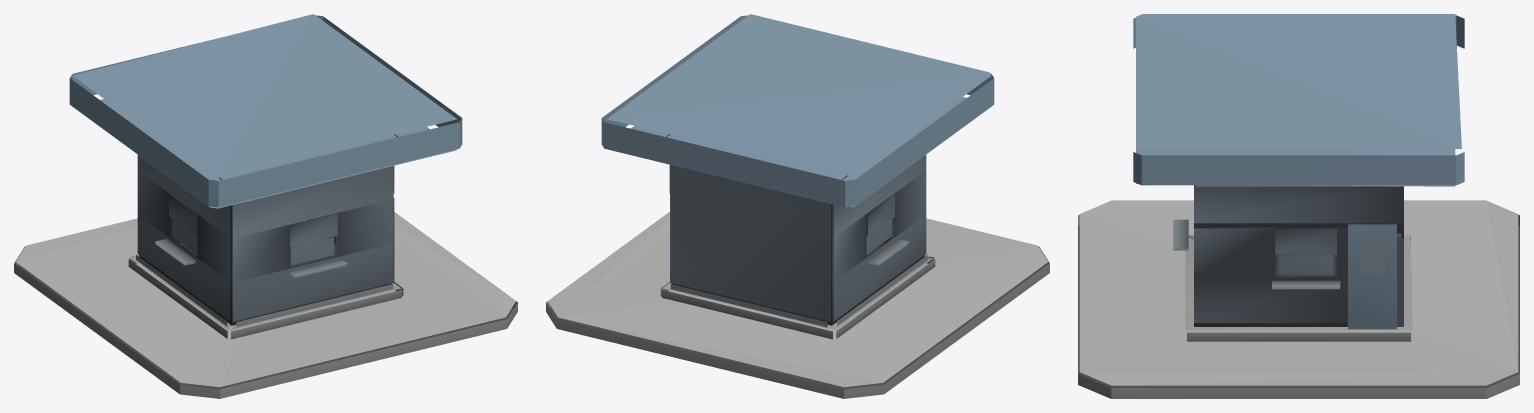
Rendered from gatehouse.lod.glb.
3 views of the same model, side by side, from view 1: azimuth 30°, elevation 25°; view 2: azimuth 150°, elevation 25°; view 3: azimuth 270°, elevation 25° (orthographic). The views are drawn at different scales.
Visible parts, largest first — view 1: gatehouse.001; view 2: gatehouse.001; view 3: gatehouse.001.
Part boxes in pixels (box(x1,y1,x2,y2)): gatehouse.001: box(14, 14, 517, 398); gatehouse.001: box(546, 14, 1049, 398); gatehouse.001: box(1078, 14, 1519, 398).
Size of the model in its own units: 8 by 4.45 by 8.
